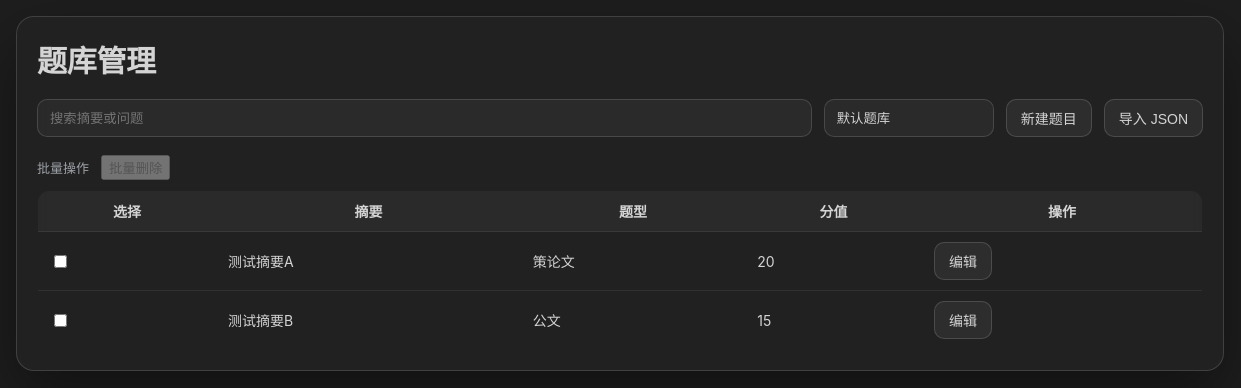
Scenario: batch delete submits selected ids and updates list
The image size is (1241, 388).
Expected: the text "测试摘要A" is shown, top-left (216, 232), bottom-right (521, 290)
Expected: the text "测试摘要B" is shown, top-left (216, 290), bottom-right (521, 350)
Click the checkbox in the row of "测试摘要A".
click(60, 261)  # box top-left (54, 254), bottom-right (67, 268)
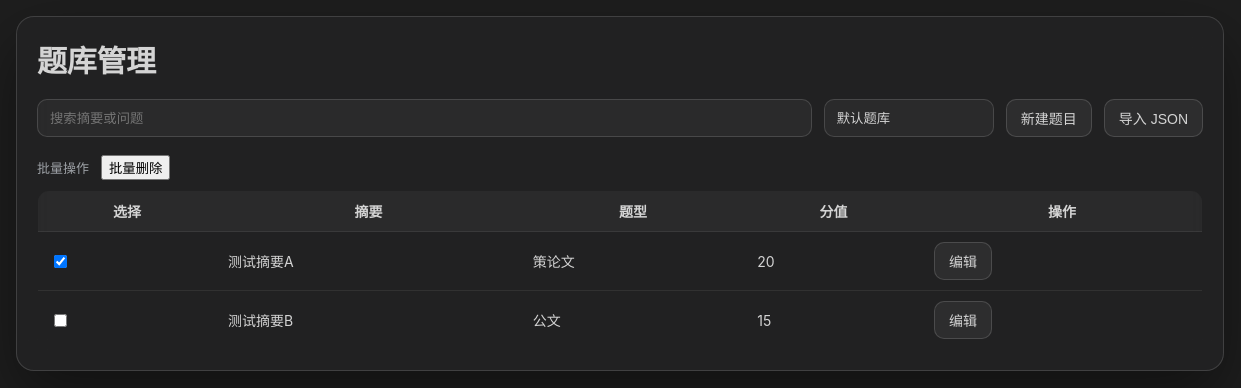
Click the button "批量删除".
click(136, 168)  # box top-left (101, 155), bottom-right (170, 180)
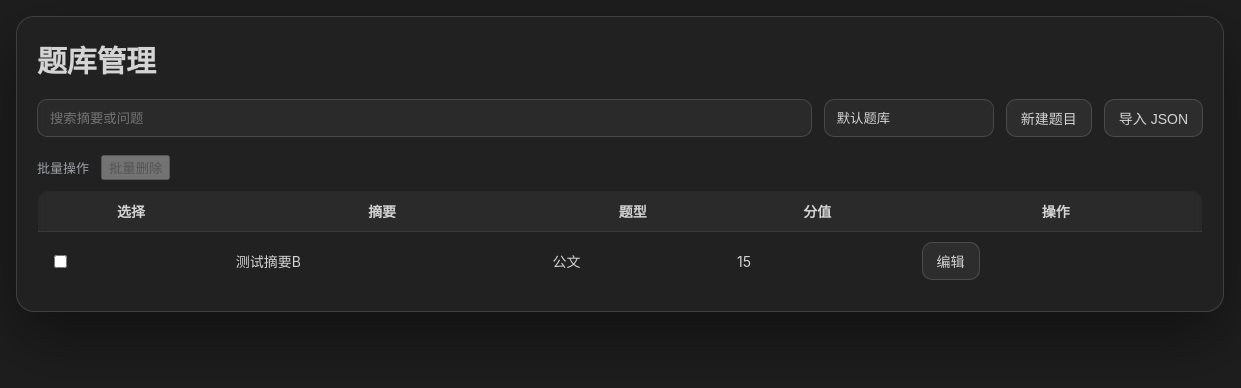
Expected: the text "测试摘要B" is shown, top-left (224, 232), bottom-right (540, 290)
Expected: the text "测试摘要A" is gone
